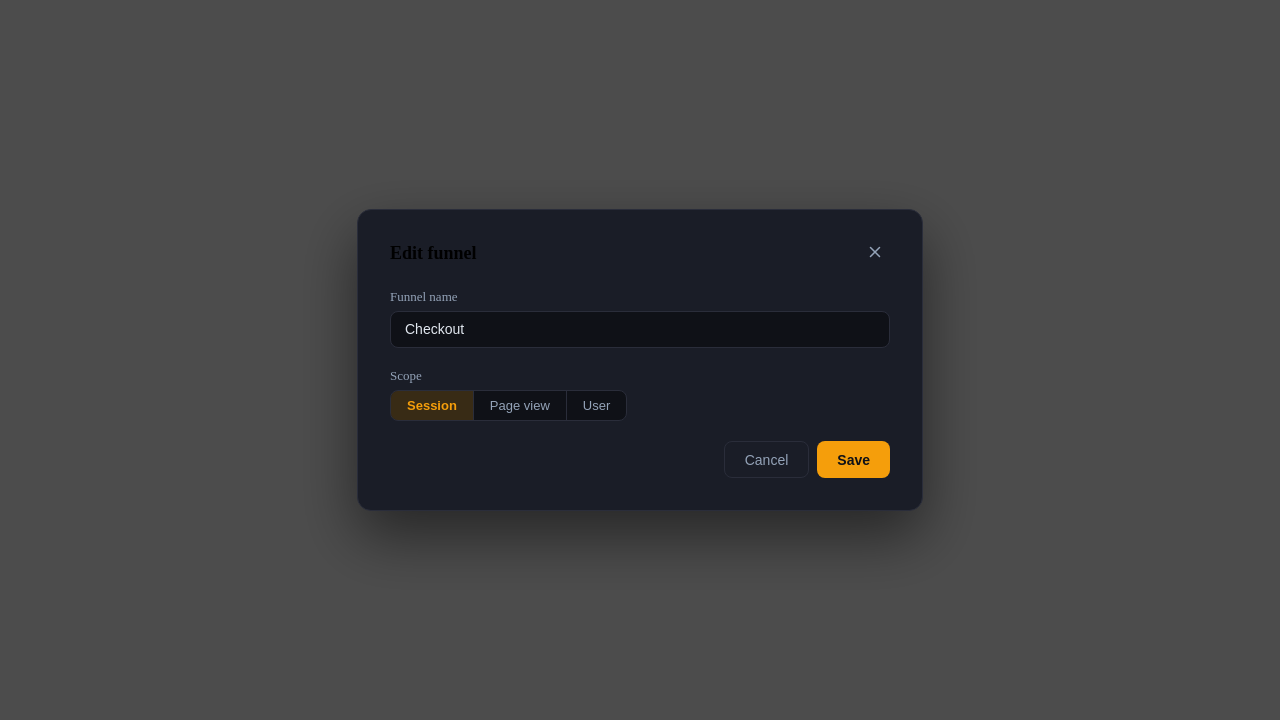
Scenario: EditFunnelModal › shows an error when the name is cleared
This screenshot has width=1280, height=720.
Clear the field showing "Checkout" at [640, 329], box 390,311 -> 890,348
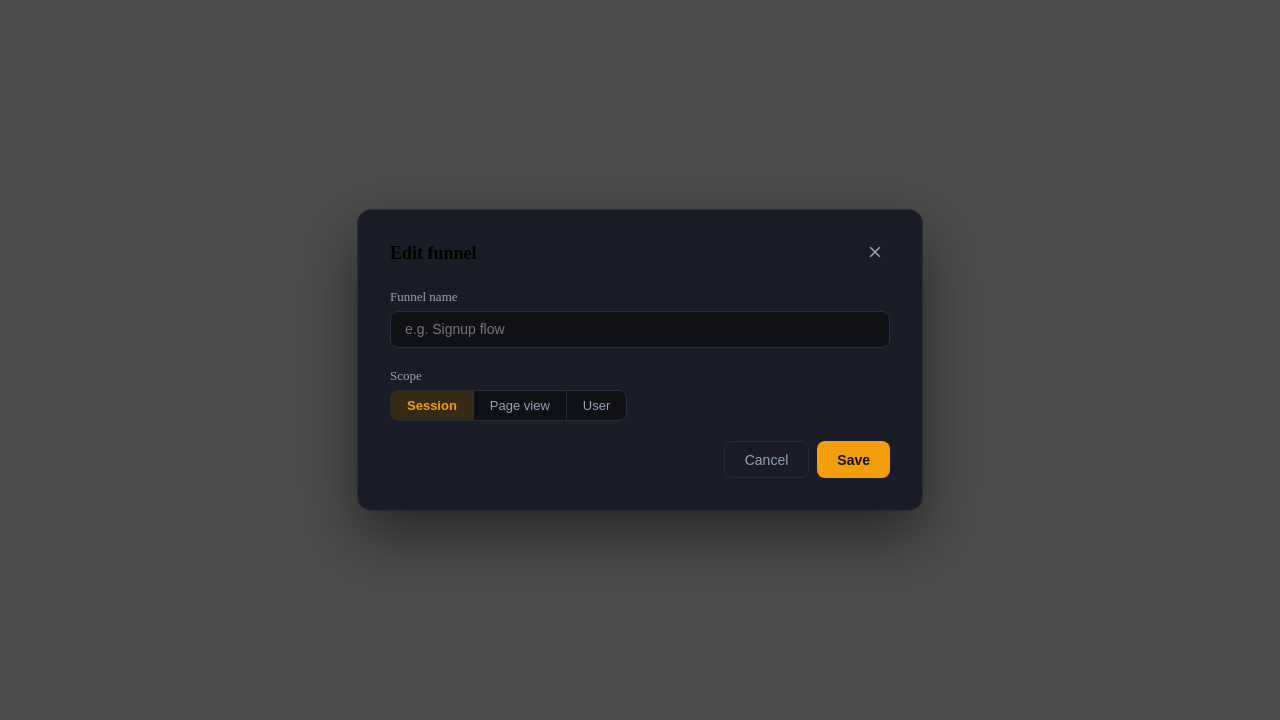
Click the button "Save".
click(854, 460)  # box 817,441 -> 890,478
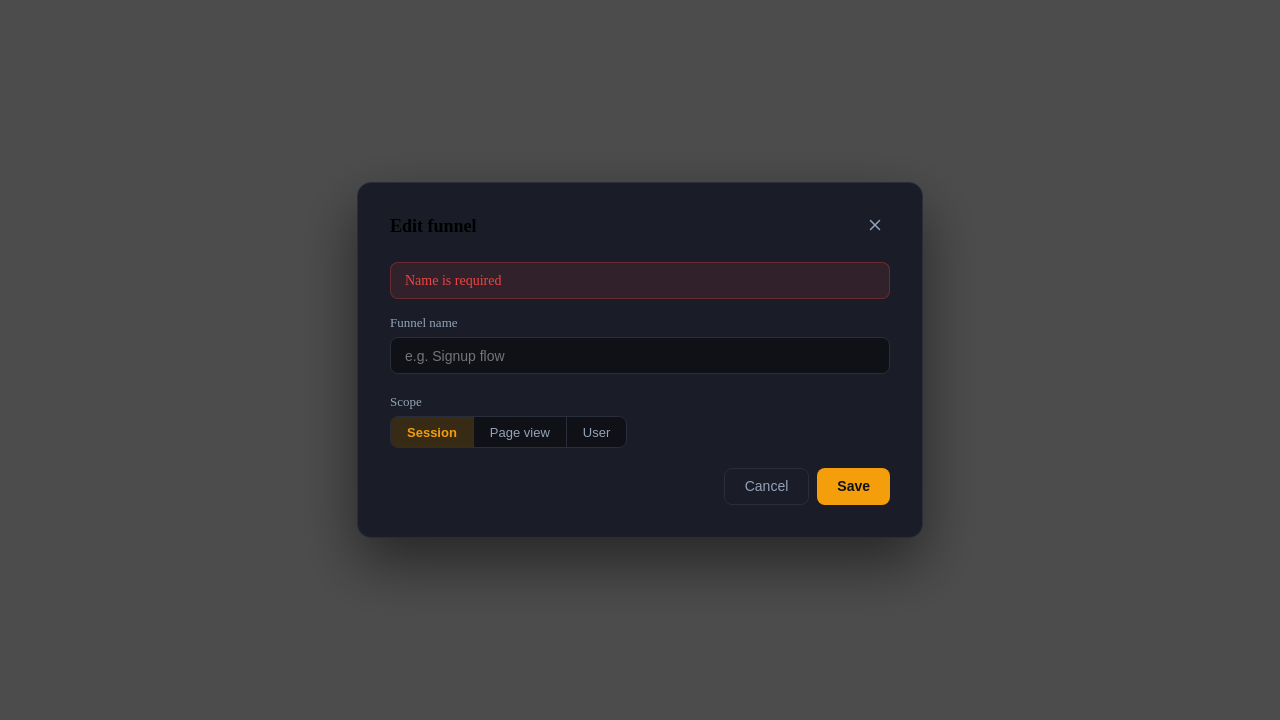
Now the text "Name is required" is shown, box 390,262 -> 890,299
